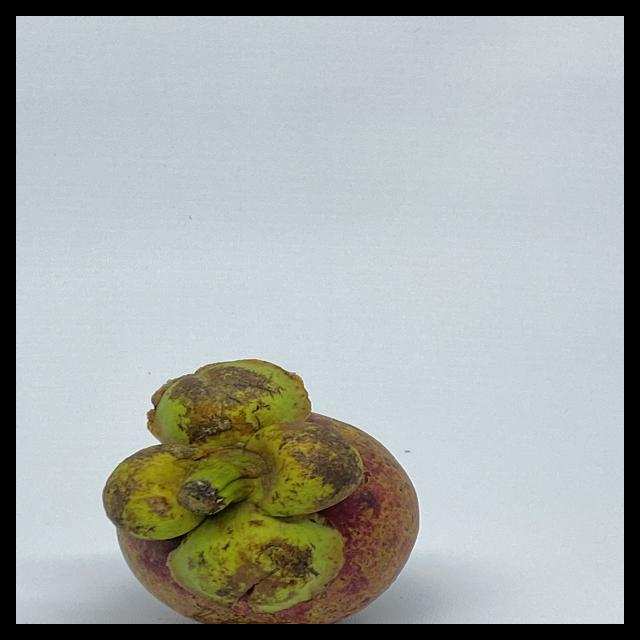mangosteen: (94, 323, 439, 624)
